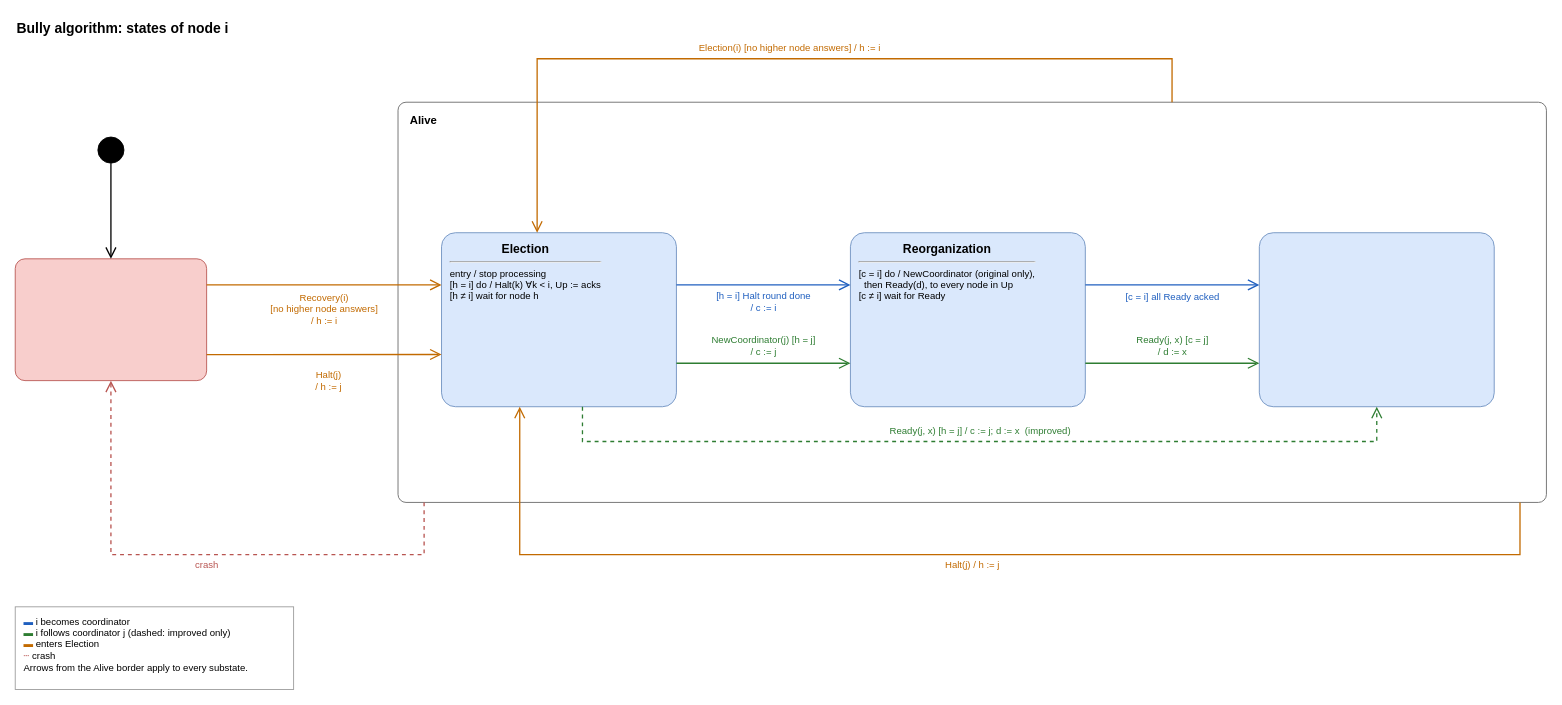
This 1562x705 diagram has some shape labels left out. The centre of each missing label's shape, as x and y in pixels:
Down entry / h := undefined: (x=110, y=319)
Normal do / task d [c = i] Check(i) [c ≠ i] Timeout(i): (x=1376, y=319)
